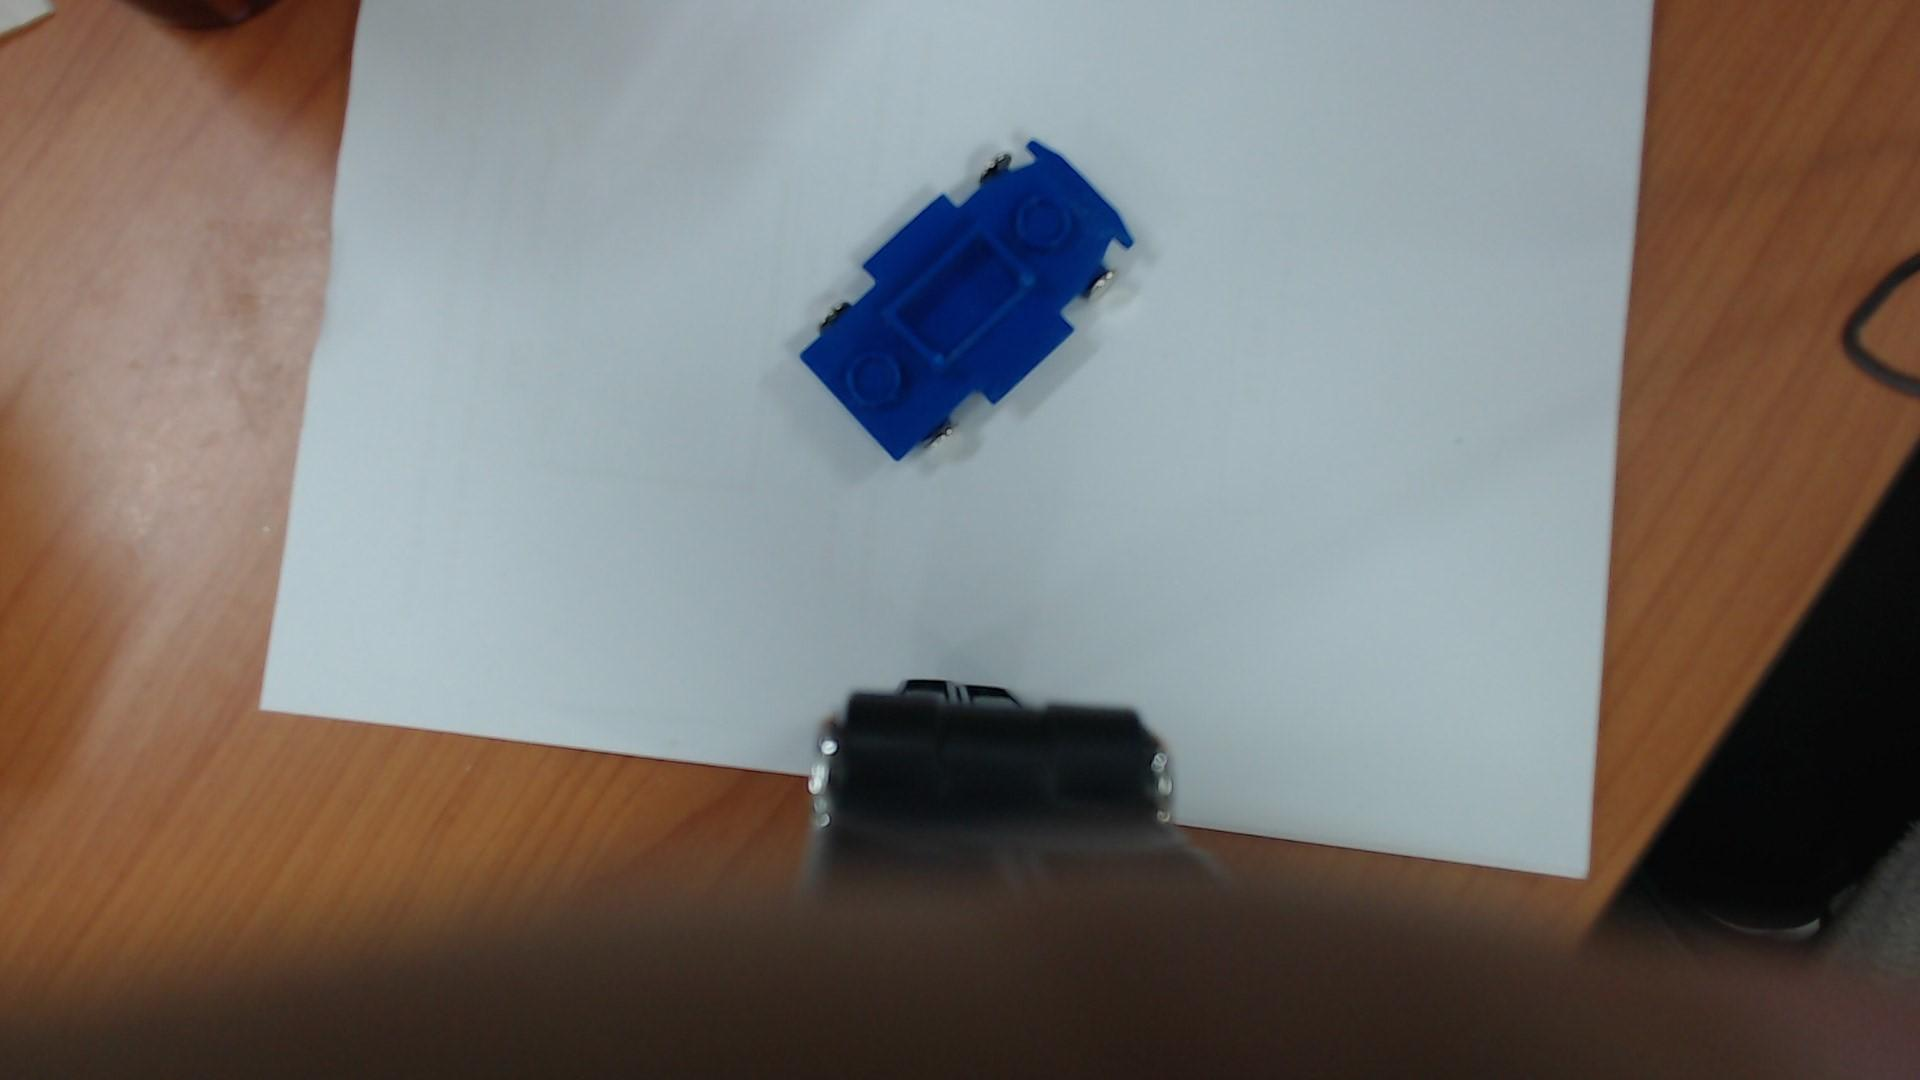lower_ng: (877, 213, 1050, 383)
